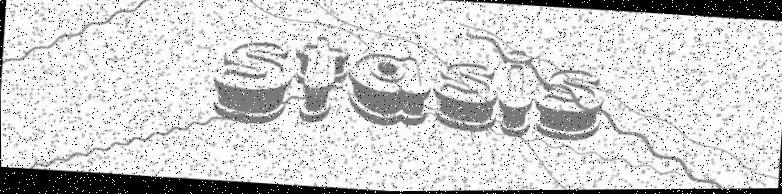a: (343, 47, 435, 132)
i: (496, 46, 536, 137)
s: (207, 33, 296, 129), (530, 64, 607, 145), (431, 58, 498, 132)
t: (289, 30, 352, 128)
